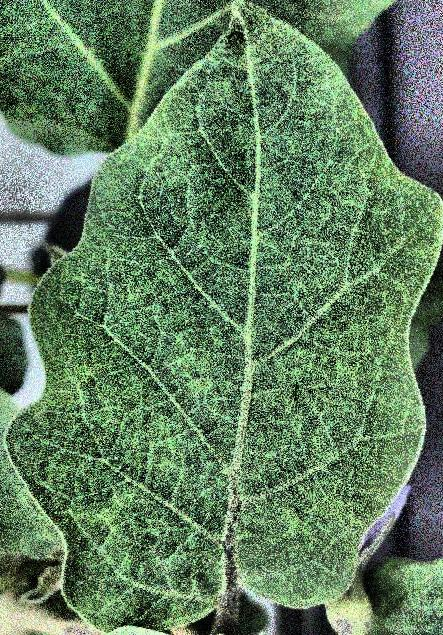HEALTHY: (1, 1, 443, 635)
